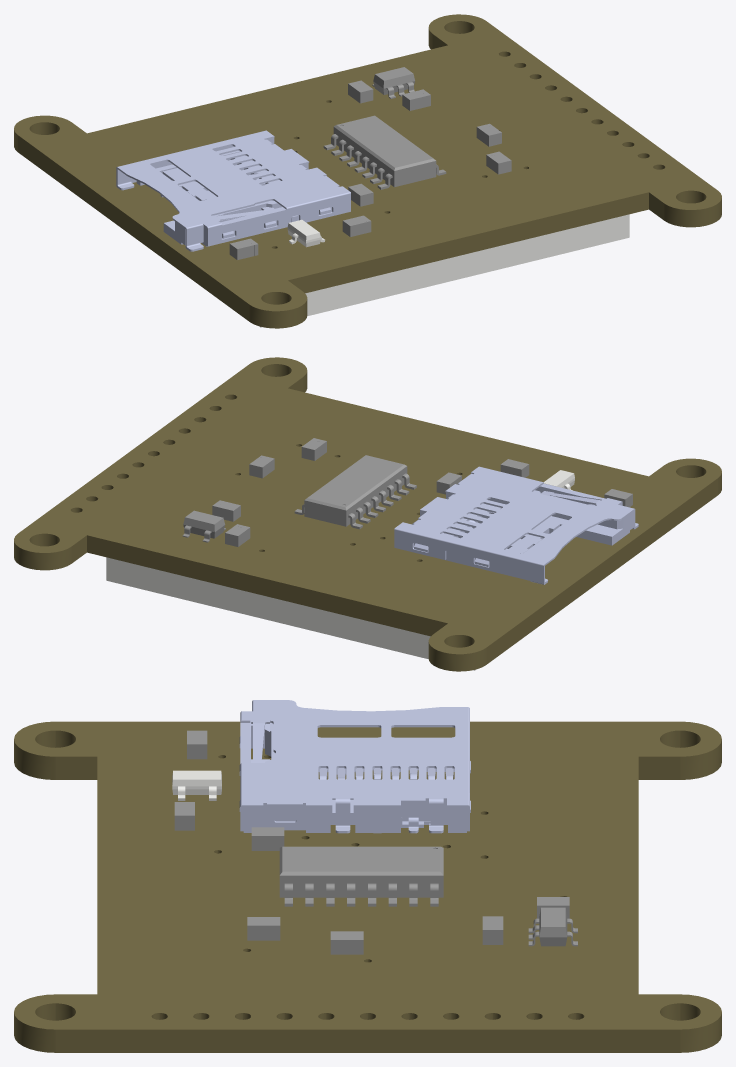
Rendered from ada-2088.glb.
3 renders of one model, top to bottom at view 1: azimuth 30°, elevation 25°; view 2: azimuth 150°, elevation 25°; view 3: azimuth 270°, elevation 25°, orthographic. The views are drawn at different scales.
Visible parts, largest first — view 1: 0.16666666666666666_0.16666666666666666_0.08333333333333333_, 0.5833333333333334_0.6666666666666666_0.8333333333333334_0, 0.3333333333333333_0.3333333333333333_0.3333333333333333_0, 0.9166666666666666_0.9166666666666666_0.9166666666666666_0.8; view 2: 0.16666666666666666_0.16666666666666666_0.08333333333333333_, 0.5833333333333334_0.6666666666666666_0.8333333333333334_0, 0.3333333333333333_0.3333333333333333_0.3333333333333333_0, 0.9166666666666666_0.9166666666666666_0.9166666666666666_0.8; view 3: 0.16666666666666666_0.16666666666666666_0.08333333333333333_, 0.5833333333333334_0.6666666666666666_0.8333333333333334_0, 0.3333333333333333_0.3333333333333333_0.3333333333333333_0, 0.9166666666666666_0.9166666666666666_0.9166666666666666_0.8.
Boxes of the visible parts, x1,y1,x2,y2 form: 0.16666666666666666_0.16666666666666666_0.08333333333333333_: (14,14,721,328); 0.5833333333333334_0.6666666666666666_0.8333333333333334_0: (116,130,350,251); 0.3333333333333333_0.3333333333333333_0.3333333333333333_0: (229,67,511,259); 0.9166666666666666_0.9166666666666666_0.9166666666666666_0.8: (259,214,629,327); 0.16666666666666666_0.16666666666666666_0.08333333333333333_: (14,357,721,671); 0.5833333333333334_0.6666666666666666_0.8333333333333334_0: (394,466,638,584); 0.3333333333333333_0.3333333333333333_0.3333333333333333_0: (182,438,632,546); 0.9166666666666666_0.9166666666666666_0.9166666666666666_0.8: (106,470,574,670); 0.16666666666666666_0.16666666666666666_0.08333333333333333_: (14,721,721,1052); 0.5833333333333334_0.6666666666666666_0.8333333333333334_0: (239,700,470,833); 0.3333333333333333_0.3333333333333333_0.3333333333333333_0: (174,730,577,954); 0.9166666666666666_0.9166666666666666_0.9166666666666666_0.8: (172,770,221,800).
Size of the model in its own units: 4.45 by 0.625 by 4.32.
